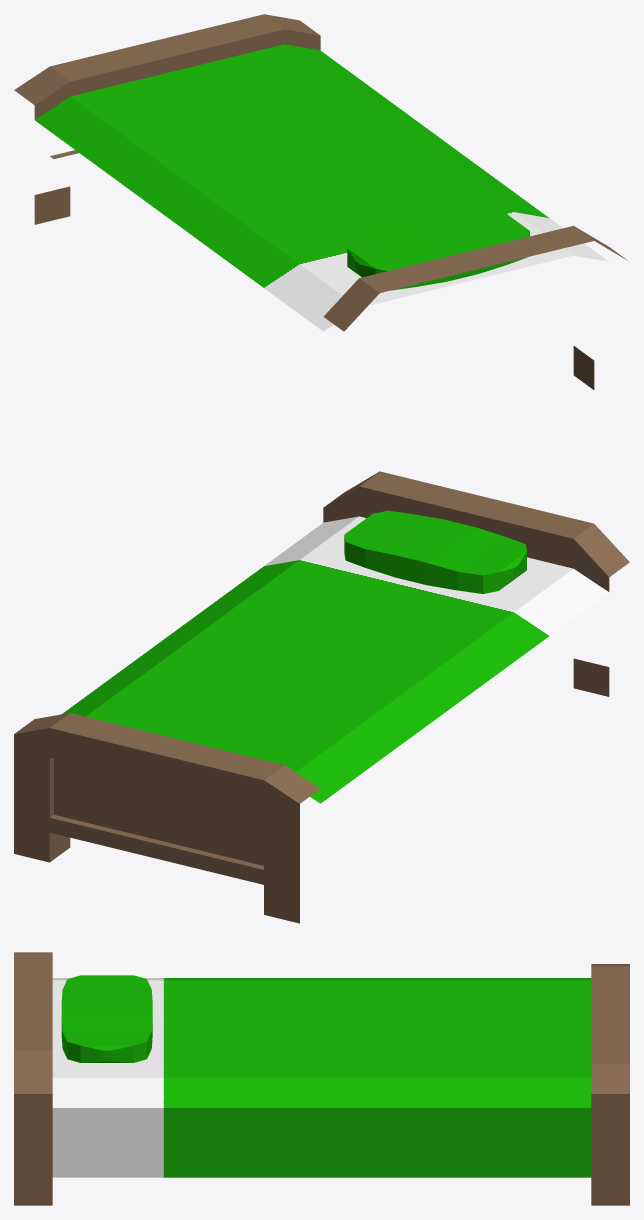
File: bed.gltf
The picture shows the model from 3 angles, top to bottom: view 1: azimuth 30°, elevation 25°; view 2: azimuth 150°, elevation 25°; view 3: azimuth 270°, elevation 25°; orthographic projection. The views are drawn at different scales.
Visible parts, largest first — view 1: bed, pillow; view 2: bed, pillow; view 3: bed, pillow.
Part boxes in pixels (x1,y1,x2,y2): bed: [14, 14, 627, 389]; pillow: [347, 207, 529, 290]; bed: [14, 471, 629, 923]; pillow: [344, 510, 526, 593]; bed: [14, 952, 629, 1205]; pillow: [61, 975, 152, 1062].
Size of the model in its own units: 1 by 0.5 by 2.
